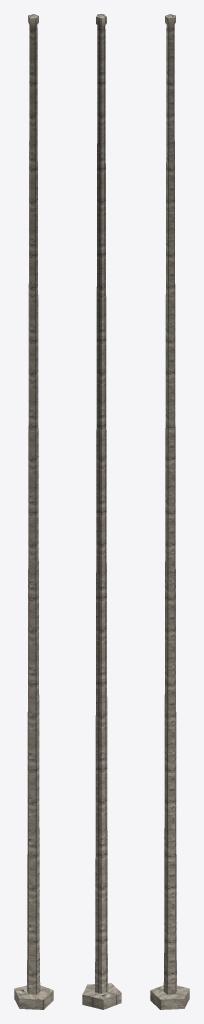
The model's file is SM_Morin_AstaBandiera_LOD2.fbx.
3 views of the same model, side by side, from view 1: azimuth 30°, elevation 25°; view 2: azimuth 150°, elevation 25°; view 3: azimuth 330°, elevation 25° (orthographic).
Visible parts, largest first — view 1: SM_Morin_AstaBandiera_LOD2; view 2: SM_Morin_AstaBandiera_LOD2; view 3: SM_Morin_AstaBandiera_LOD2.
Part boxes in pixels (left/top/right/bottom): SM_Morin_AstaBandiera_LOD2: left=14, top=14, right=53, bottom=1009; SM_Morin_AstaBandiera_LOD2: left=82, top=14, right=121, bottom=1009; SM_Morin_AstaBandiera_LOD2: left=150, top=14, right=189, bottom=1009.
Bounding box in the file's own units: 41.85 × 39.8 × 1152.
1 material, 1 textured.
